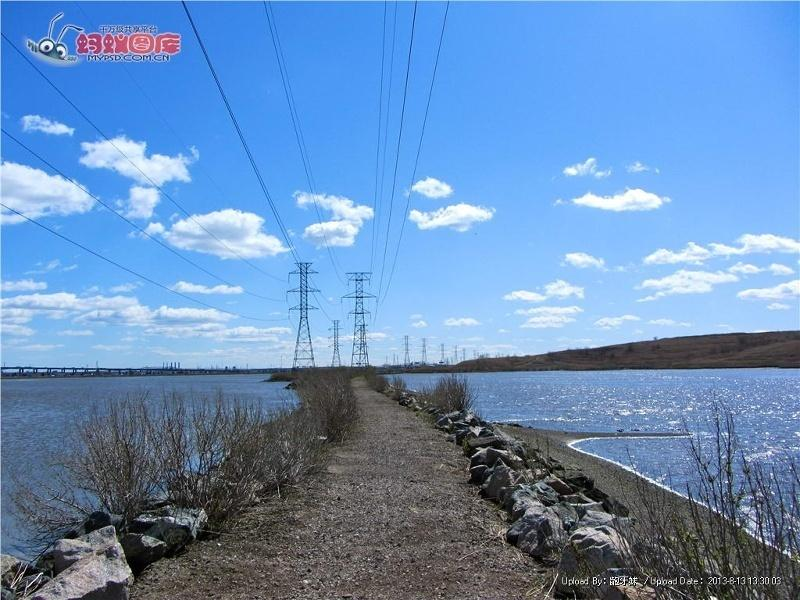power_tower: (265, 255, 322, 372), (336, 258, 386, 372)
